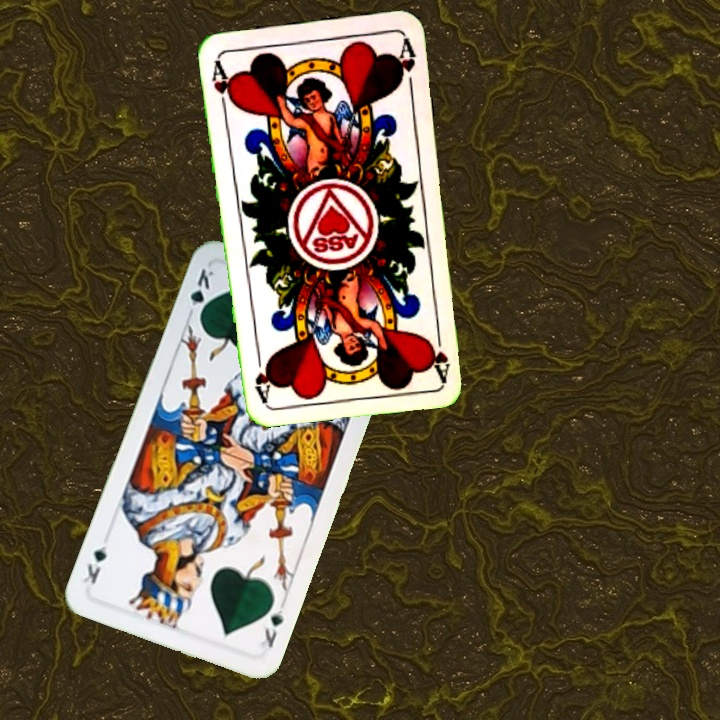GK: (186, 264, 217, 322), (256, 604, 286, 651)
HA: (423, 322, 453, 381), (208, 55, 237, 114)
